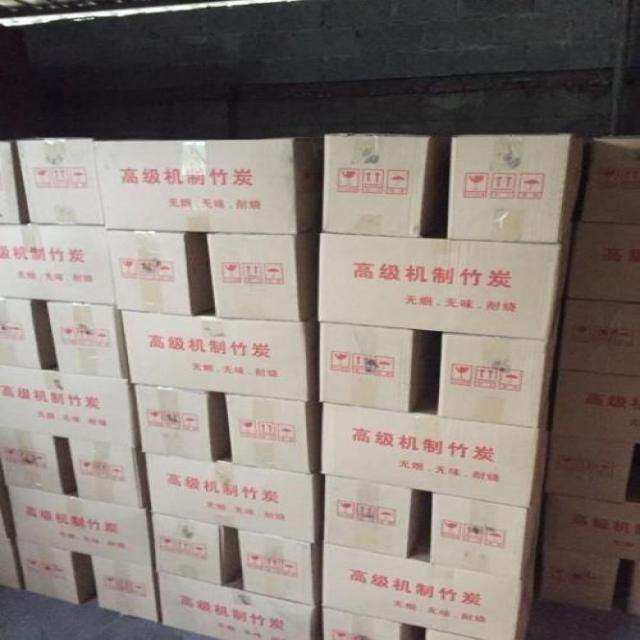box: (320, 226, 572, 340), (322, 404, 553, 507), (92, 138, 325, 234), (324, 543, 535, 639), (121, 310, 318, 402), (145, 453, 325, 543), (449, 134, 582, 242), (324, 134, 449, 236), (438, 328, 558, 429), (7, 486, 152, 567), (1, 365, 137, 448), (158, 573, 321, 639), (209, 226, 320, 320), (319, 322, 432, 412), (431, 492, 544, 581), (2, 224, 116, 306), (106, 230, 213, 314), (325, 473, 424, 559), (15, 138, 104, 225), (132, 384, 230, 462), (226, 394, 320, 474), (237, 529, 323, 607), (544, 433, 635, 505), (152, 512, 240, 586), (47, 302, 128, 380), (551, 371, 639, 442), (542, 496, 639, 559), (559, 300, 639, 375), (69, 437, 150, 508), (569, 222, 639, 302), (0, 425, 77, 495), (16, 540, 96, 605), (539, 547, 620, 611), (582, 136, 639, 225), (92, 555, 159, 623), (0, 298, 56, 371), (321, 607, 415, 639), (0, 141, 23, 224)
